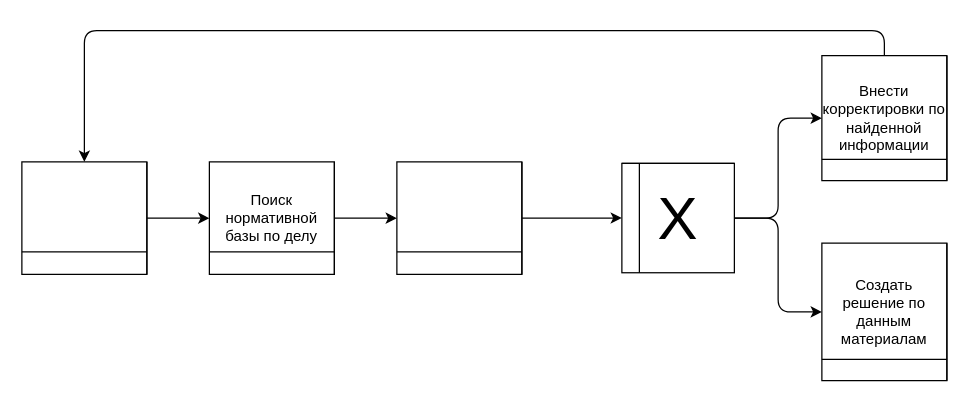
Image size: 969x403. Some labels were removed from this diagram. The centre of each missing label's shape, as x and y in pixels:
Ознакомление с делом: (84,217)
Поиск прецедентов по делу: (459,217)
